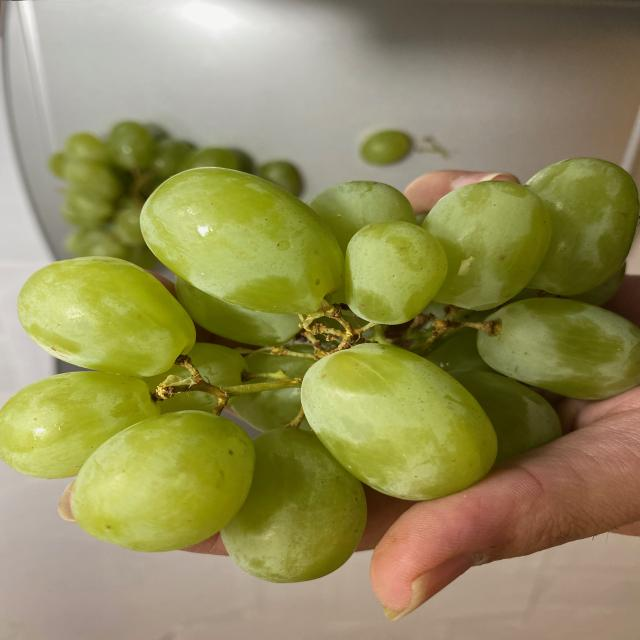Grapes: (2, 152, 638, 580)
